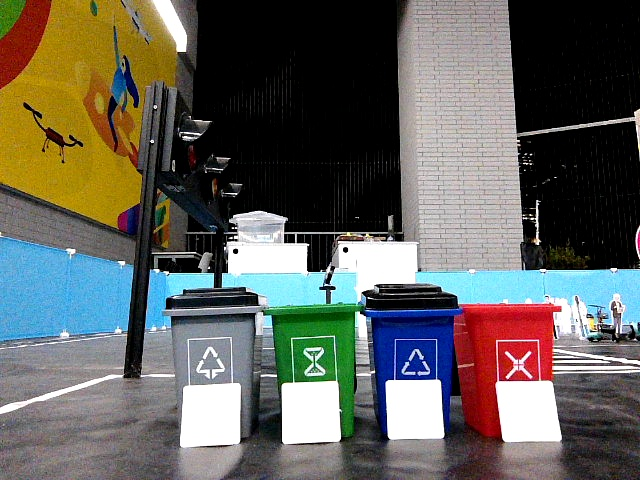blue_close: (369, 283, 447, 376)
green_open: (276, 304, 351, 378)
grey_close: (171, 288, 254, 381)
red_open: (467, 301, 548, 377)
